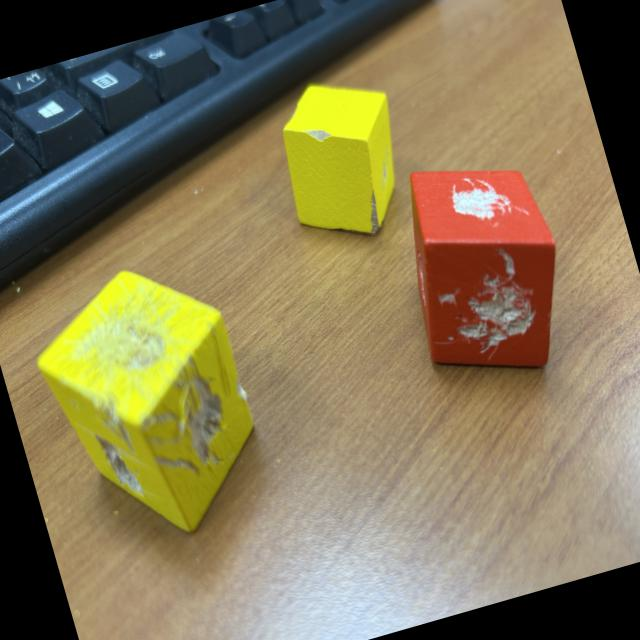broken: (18, 244, 280, 561), (380, 141, 586, 395), (263, 64, 422, 254)
